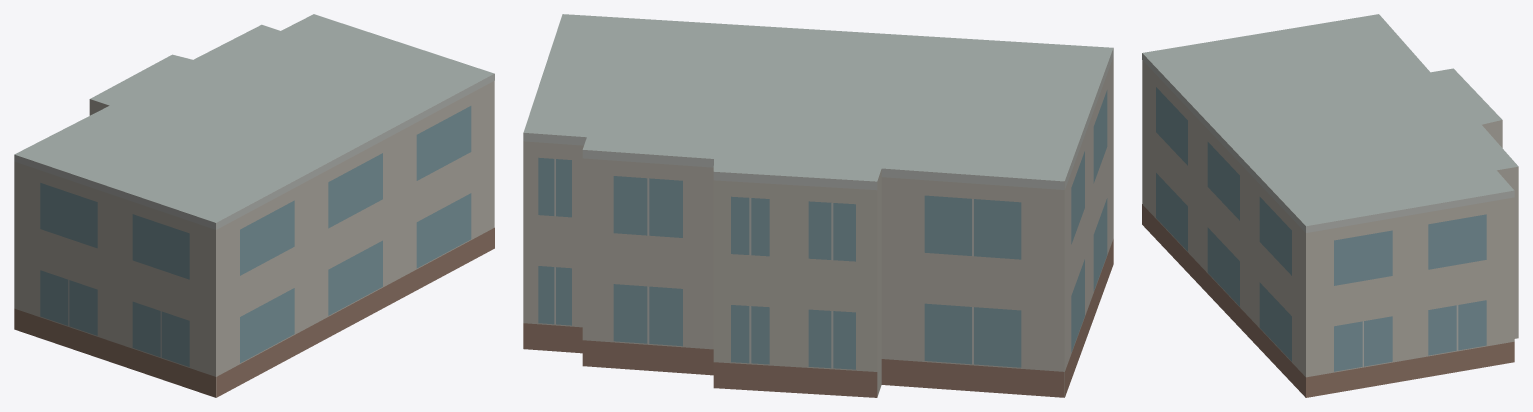
File: survey-upis-32851340.glb
3 renders of one model, left to right at view 1: azimuth 30°, elevation 25°; view 2: azimuth 150°, elevation 25°; view 3: azimuth 270°, elevation 25°, orthographic. The views are drawn at different scales.
Visible parts, largest first — view 1: survey-upis-32851340.tmp; view 2: survey-upis-32851340.tmp; view 3: survey-upis-32851340.tmp.
Boxes of the visible parts, bbox=[...] form: survey-upis-32851340.tmp: bbox=[14, 14, 494, 397]; survey-upis-32851340.tmp: bbox=[523, 14, 1113, 397]; survey-upis-32851340.tmp: bbox=[1142, 14, 1518, 397].
Size of the model in its own units: 16.19 by 6.1 by 12.14.
